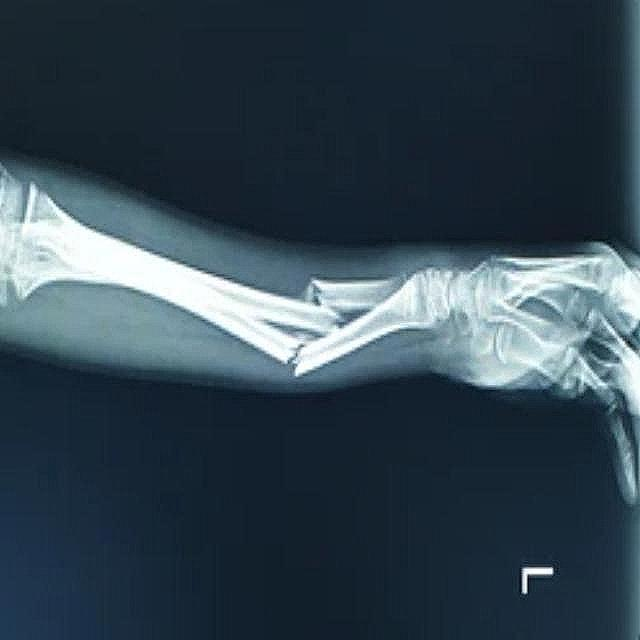bone: (261, 328, 334, 382), (296, 274, 368, 320)
